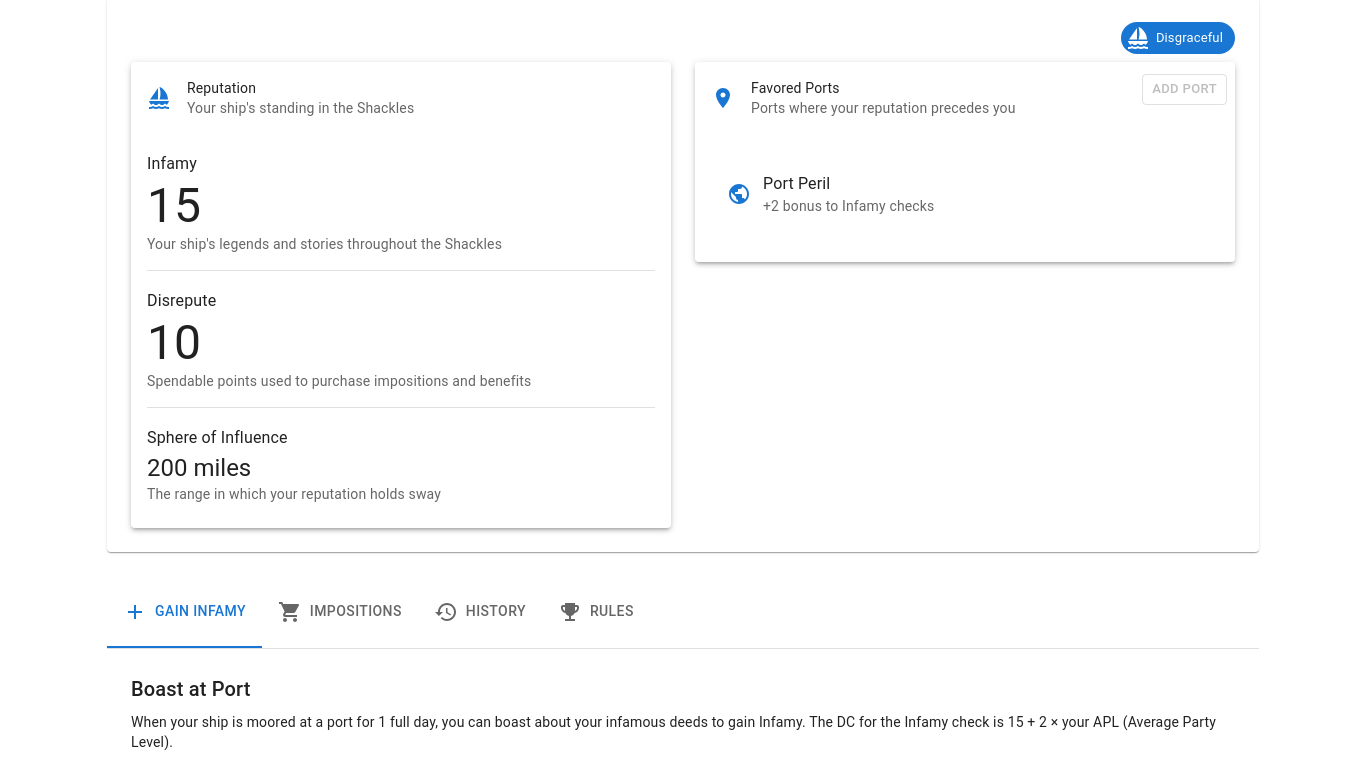
it: Infamy › renders the rules from the shared threshold table
This screenshot has width=1366, height=766.
Click the tab "Rules": {"x": 596, "y": 612} [542, 576, 650, 648]
(page scrolled)
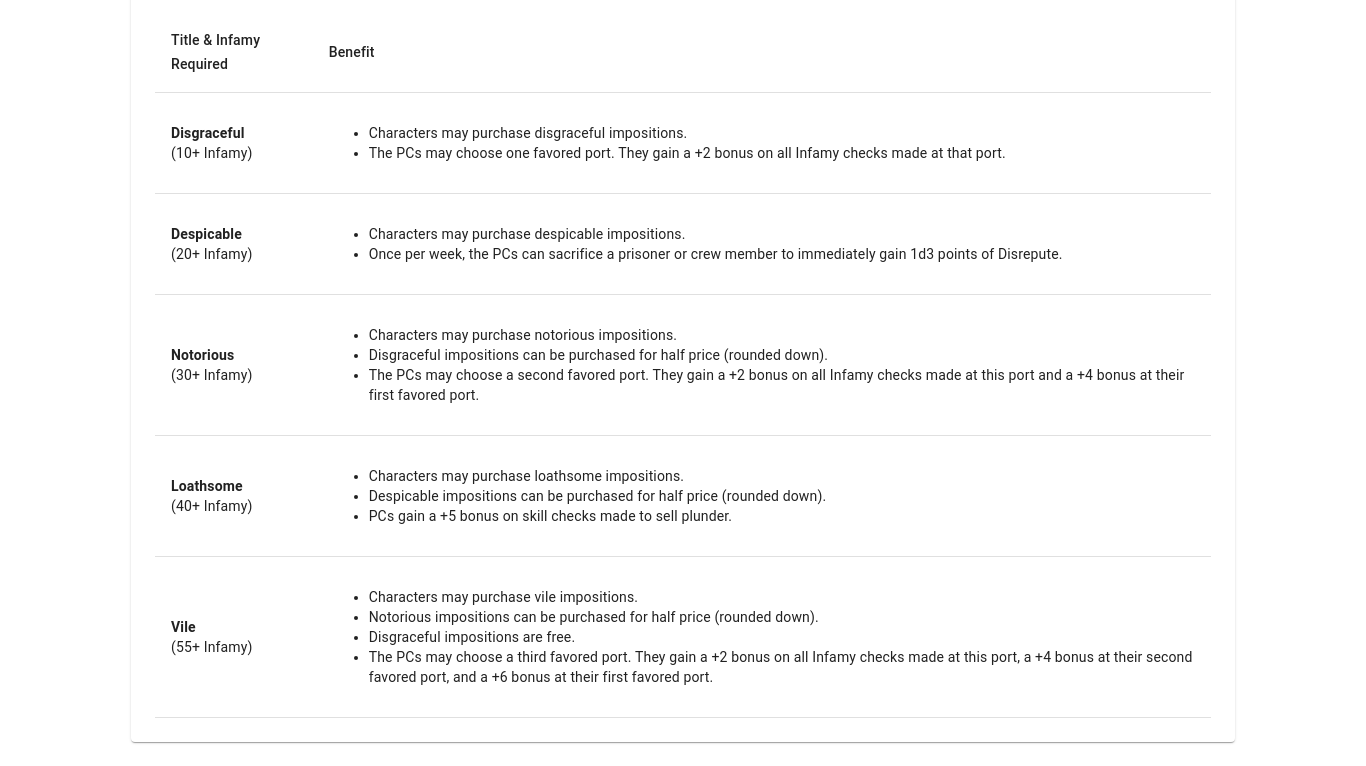
Check: the text "Vile(55+ Infamy)" is shown, box [155, 556, 313, 718]
Check: the list item "Disgraceful impositions are free." is shown, box [369, 629, 575, 645]
